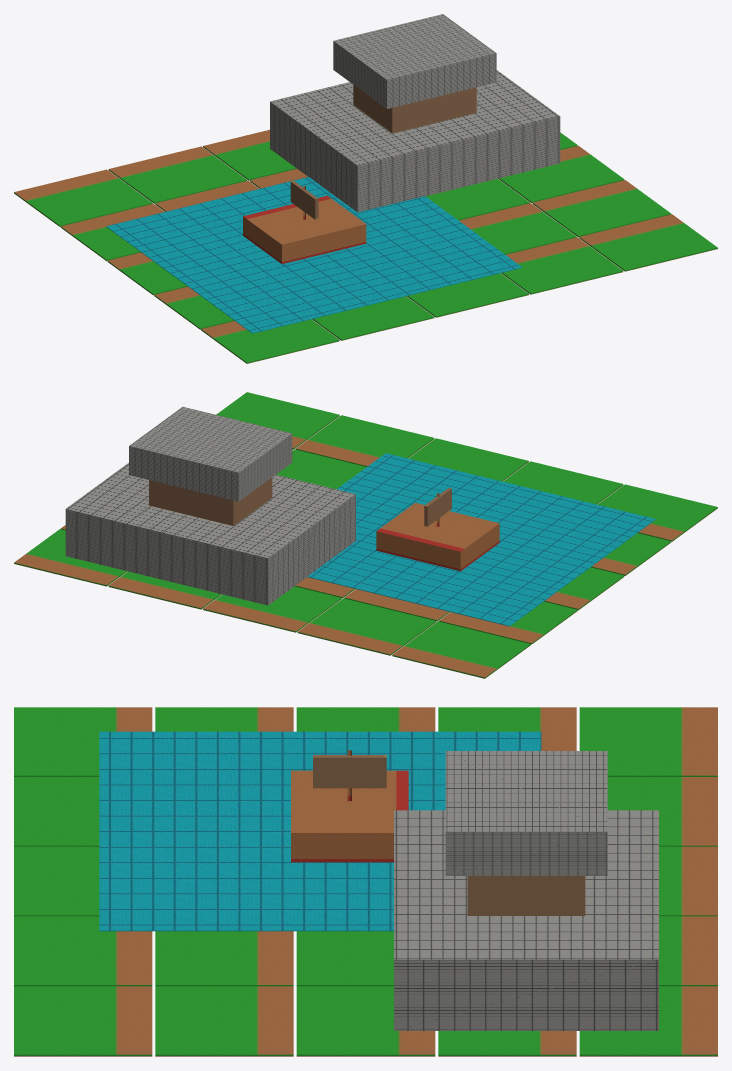
3 views of the same model, one above another, from view 1: azimuth 30°, elevation 25°; view 2: azimuth 150°, elevation 25°; view 3: azimuth 270°, elevation 25° (orthographic). The views are drawn at different scales.
Visible parts, largest first — view 1: 28185_B46_Neungheodae_Historic_Park; view 2: 28185_B46_Neungheodae_Historic_Park; view 3: 28185_B46_Neungheodae_Historic_Park.
Boxes of the visible parts, box(x1,y1,x2,y2) form: 28185_B46_Neungheodae_Historic_Park: box(14, 14, 717, 363); 28185_B46_Neungheodae_Historic_Park: box(14, 392, 717, 678); 28185_B46_Neungheodae_Historic_Park: box(14, 707, 717, 1056).
Size of the model in its own units: 55.8 by 12.5 by 47.8.
1 material, 1 textured.
